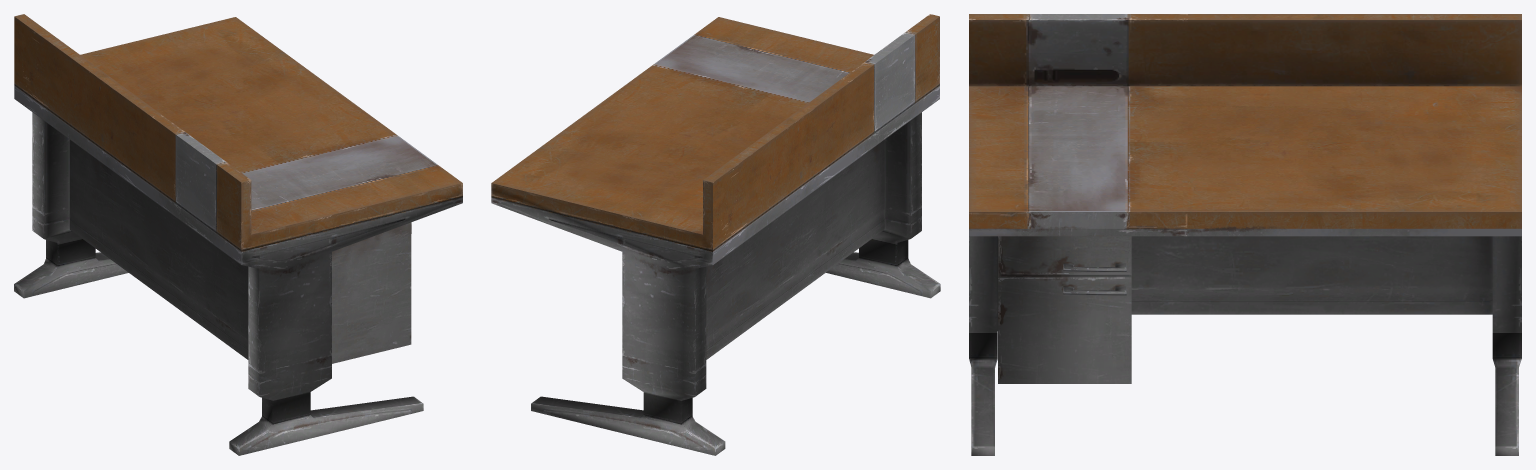
The model's file is Desk01_Straight_Worn.FBX.
The picture shows the model from 3 angles, left to right: view 1: azimuth 30°, elevation 25°; view 2: azimuth 150°, elevation 25°; view 3: azimuth 270°, elevation 25°; orthographic projection. The views are drawn at different scales.
Parts seen in each view (by area): view 1: Desk01_Straight_Worn; view 2: Desk01_Straight_Worn; view 3: Desk01_Straight_Worn.
Boxes of the visible parts, x1=… form: Desk01_Straight_Worn: x1=14, y1=14, x2=462, y2=455; Desk01_Straight_Worn: x1=491, y1=14, x2=940, y2=455; Desk01_Straight_Worn: x1=969, y1=14, x2=1521, y2=455.
Size of the model in its own units: 0.85 by 0.9976 by 1.5.
